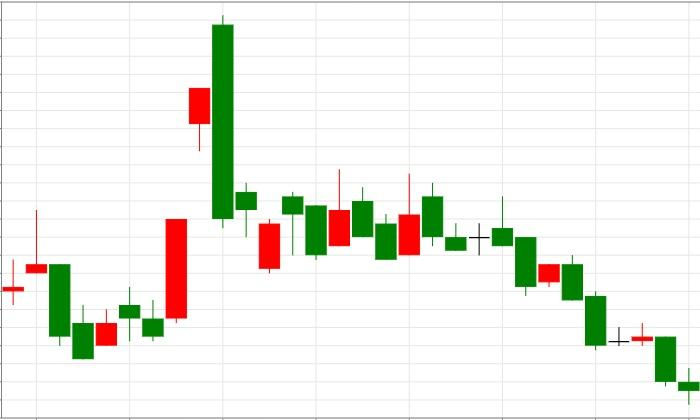bearish_engulfing_fall: (72, 14, 234, 359)
